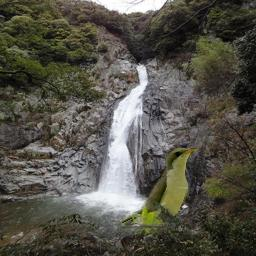Cuckoo: (121, 145, 199, 237)
